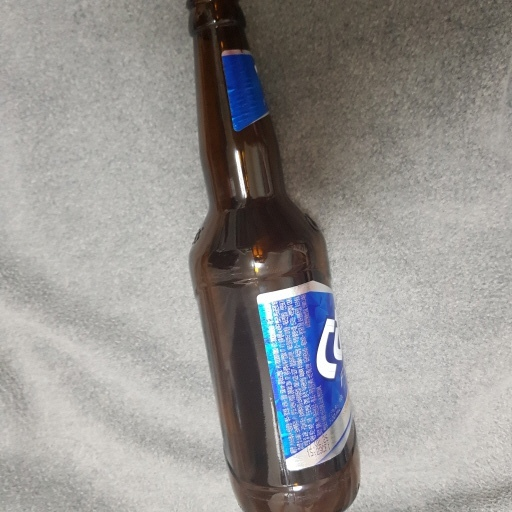Glass_1: (180, 1, 361, 512)
